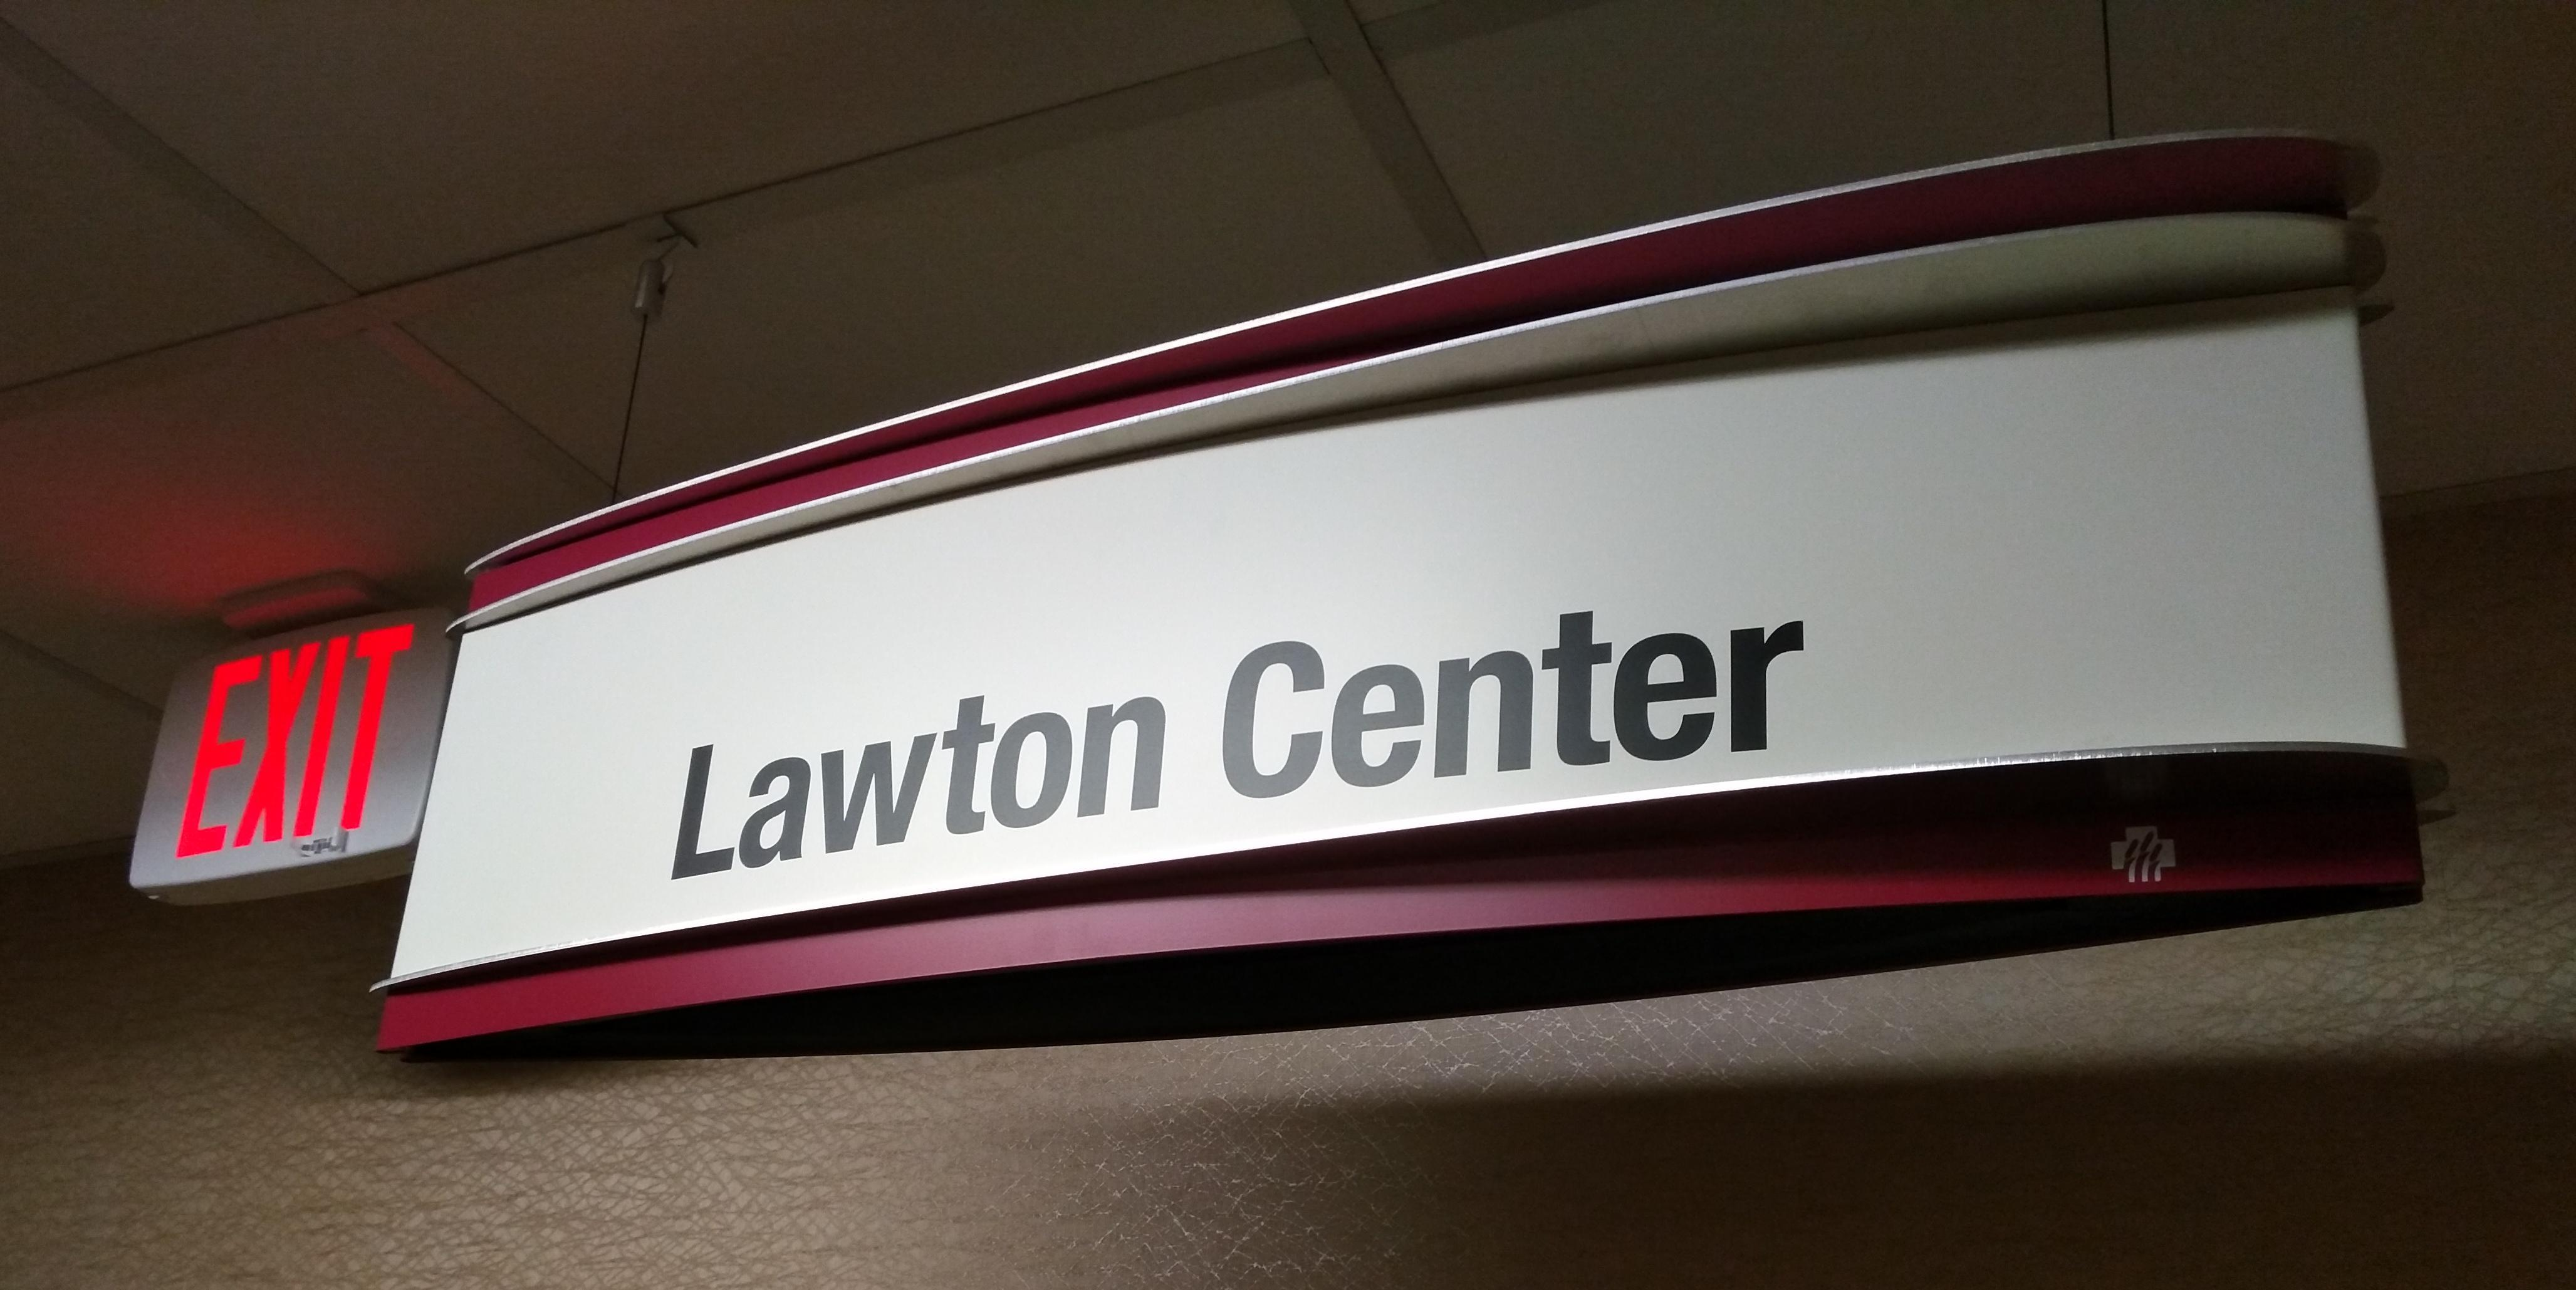sign: (373, 127, 2430, 1061), (130, 610, 429, 913)
